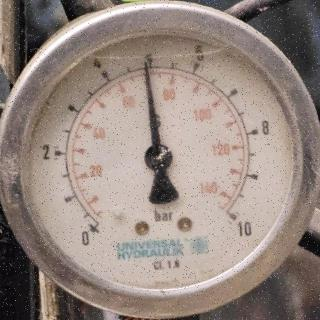gauge: (0, 0, 320, 320), (204, 192, 256, 242), (68, 204, 116, 254), (141, 142, 175, 172), (139, 52, 155, 72)
